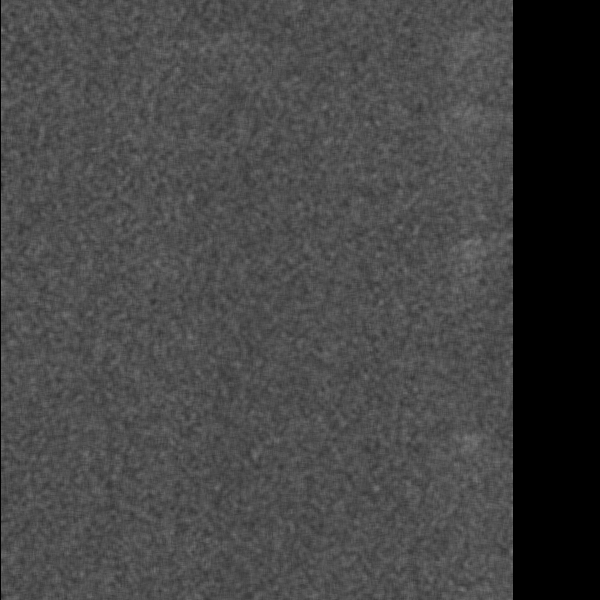spark: (419, 160, 462, 241), (143, 540, 187, 598), (30, 560, 83, 590)
